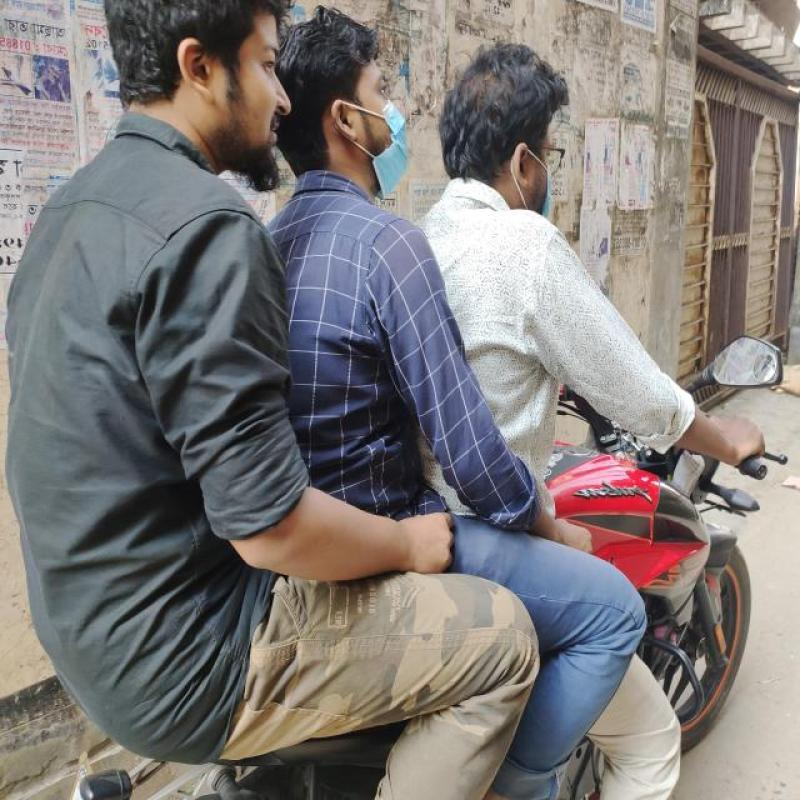nohelmet: (90, 5, 289, 193), (451, 43, 577, 213)
